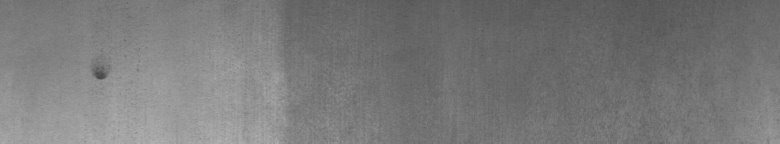fi: (88, 64, 112, 88)
